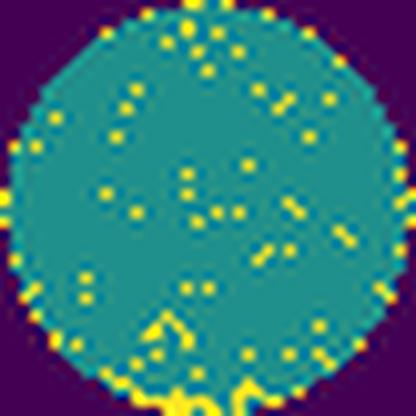Edge-Loc: (100, 365, 230, 415), (229, 376, 287, 415)
